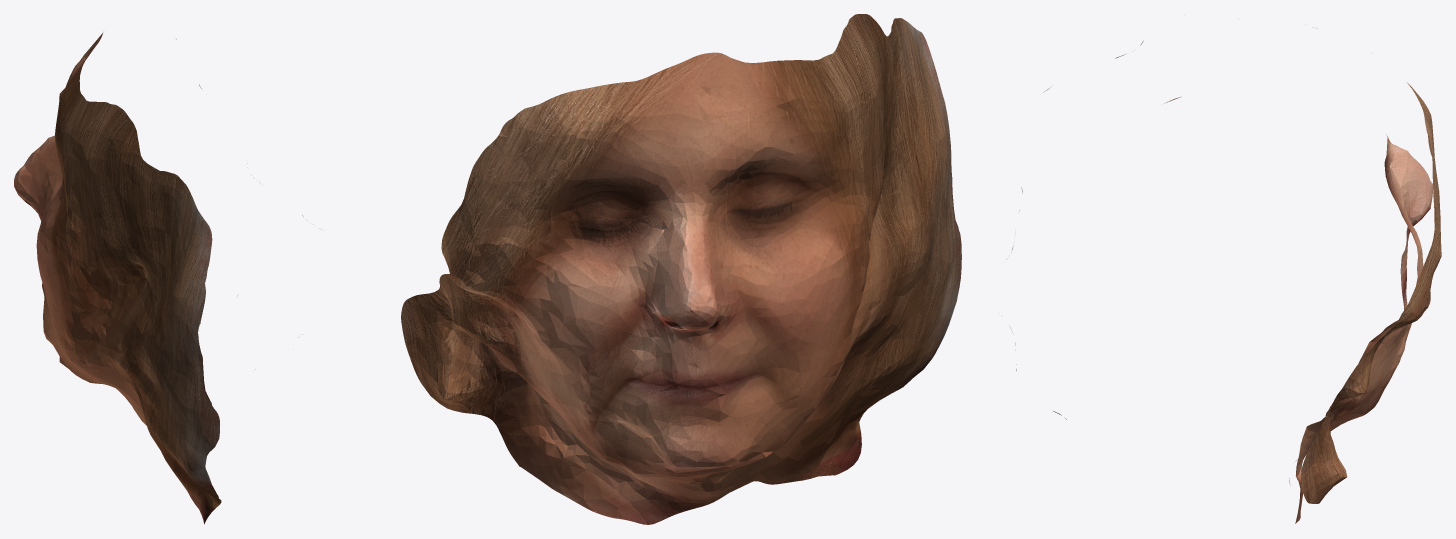
Rendered from BUSTO_3.glb.
The picture shows the model from 3 angles, left to right: view 1: azimuth 30°, elevation 25°; view 2: azimuth 150°, elevation 25°; view 3: azimuth 270°, elevation 25°; orthographic projection. The views are drawn at different scales.
Parts seen in each view (by area): view 1: Mesh_0.013; view 2: Mesh_0.013; view 3: Mesh_0.013.
Part boxes in pixels (x1=…): Mesh_0.013: x1=14, y1=32, x2=306, y2=524; Mesh_0.013: x1=401, y1=14, x2=961, y2=524; Mesh_0.013: x1=999, y1=27, x2=1441, y2=523.
Bounding box in the file's own units: 2.95 × 3.41 × 3.19.
1 material, 1 textured.
